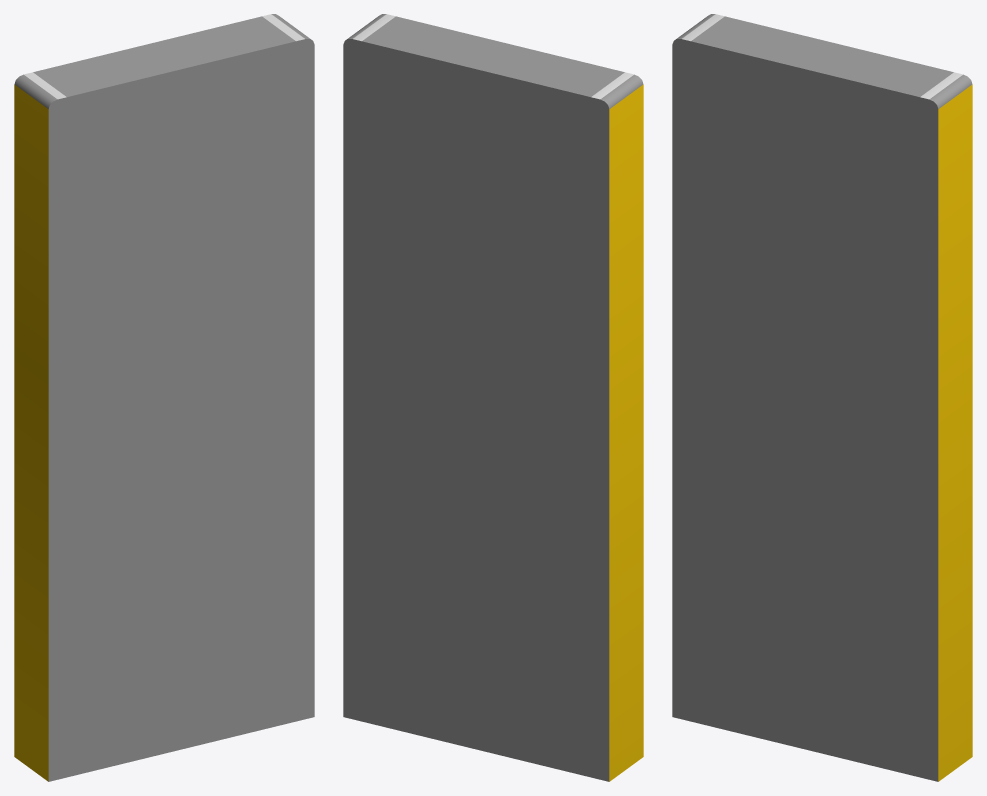
3 views of the same model, side by side, from view 1: azimuth 30°, elevation 25°; view 2: azimuth 150°, elevation 25°; view 3: azimuth 330°, elevation 25° (orthographic).
Visible parts, largest first — view 1: H1-50-road.001; view 2: H1-50-road.001; view 3: H1-50-road.001.
Boxes of the visible parts, x1,y1,x2,y2 form: H1-50-road.001: (14,14,314,781); H1-50-road.001: (343,14,643,781); H1-50-road.001: (672,14,972,781).
Size of the model in its own units: 9 by 22 by 2.
